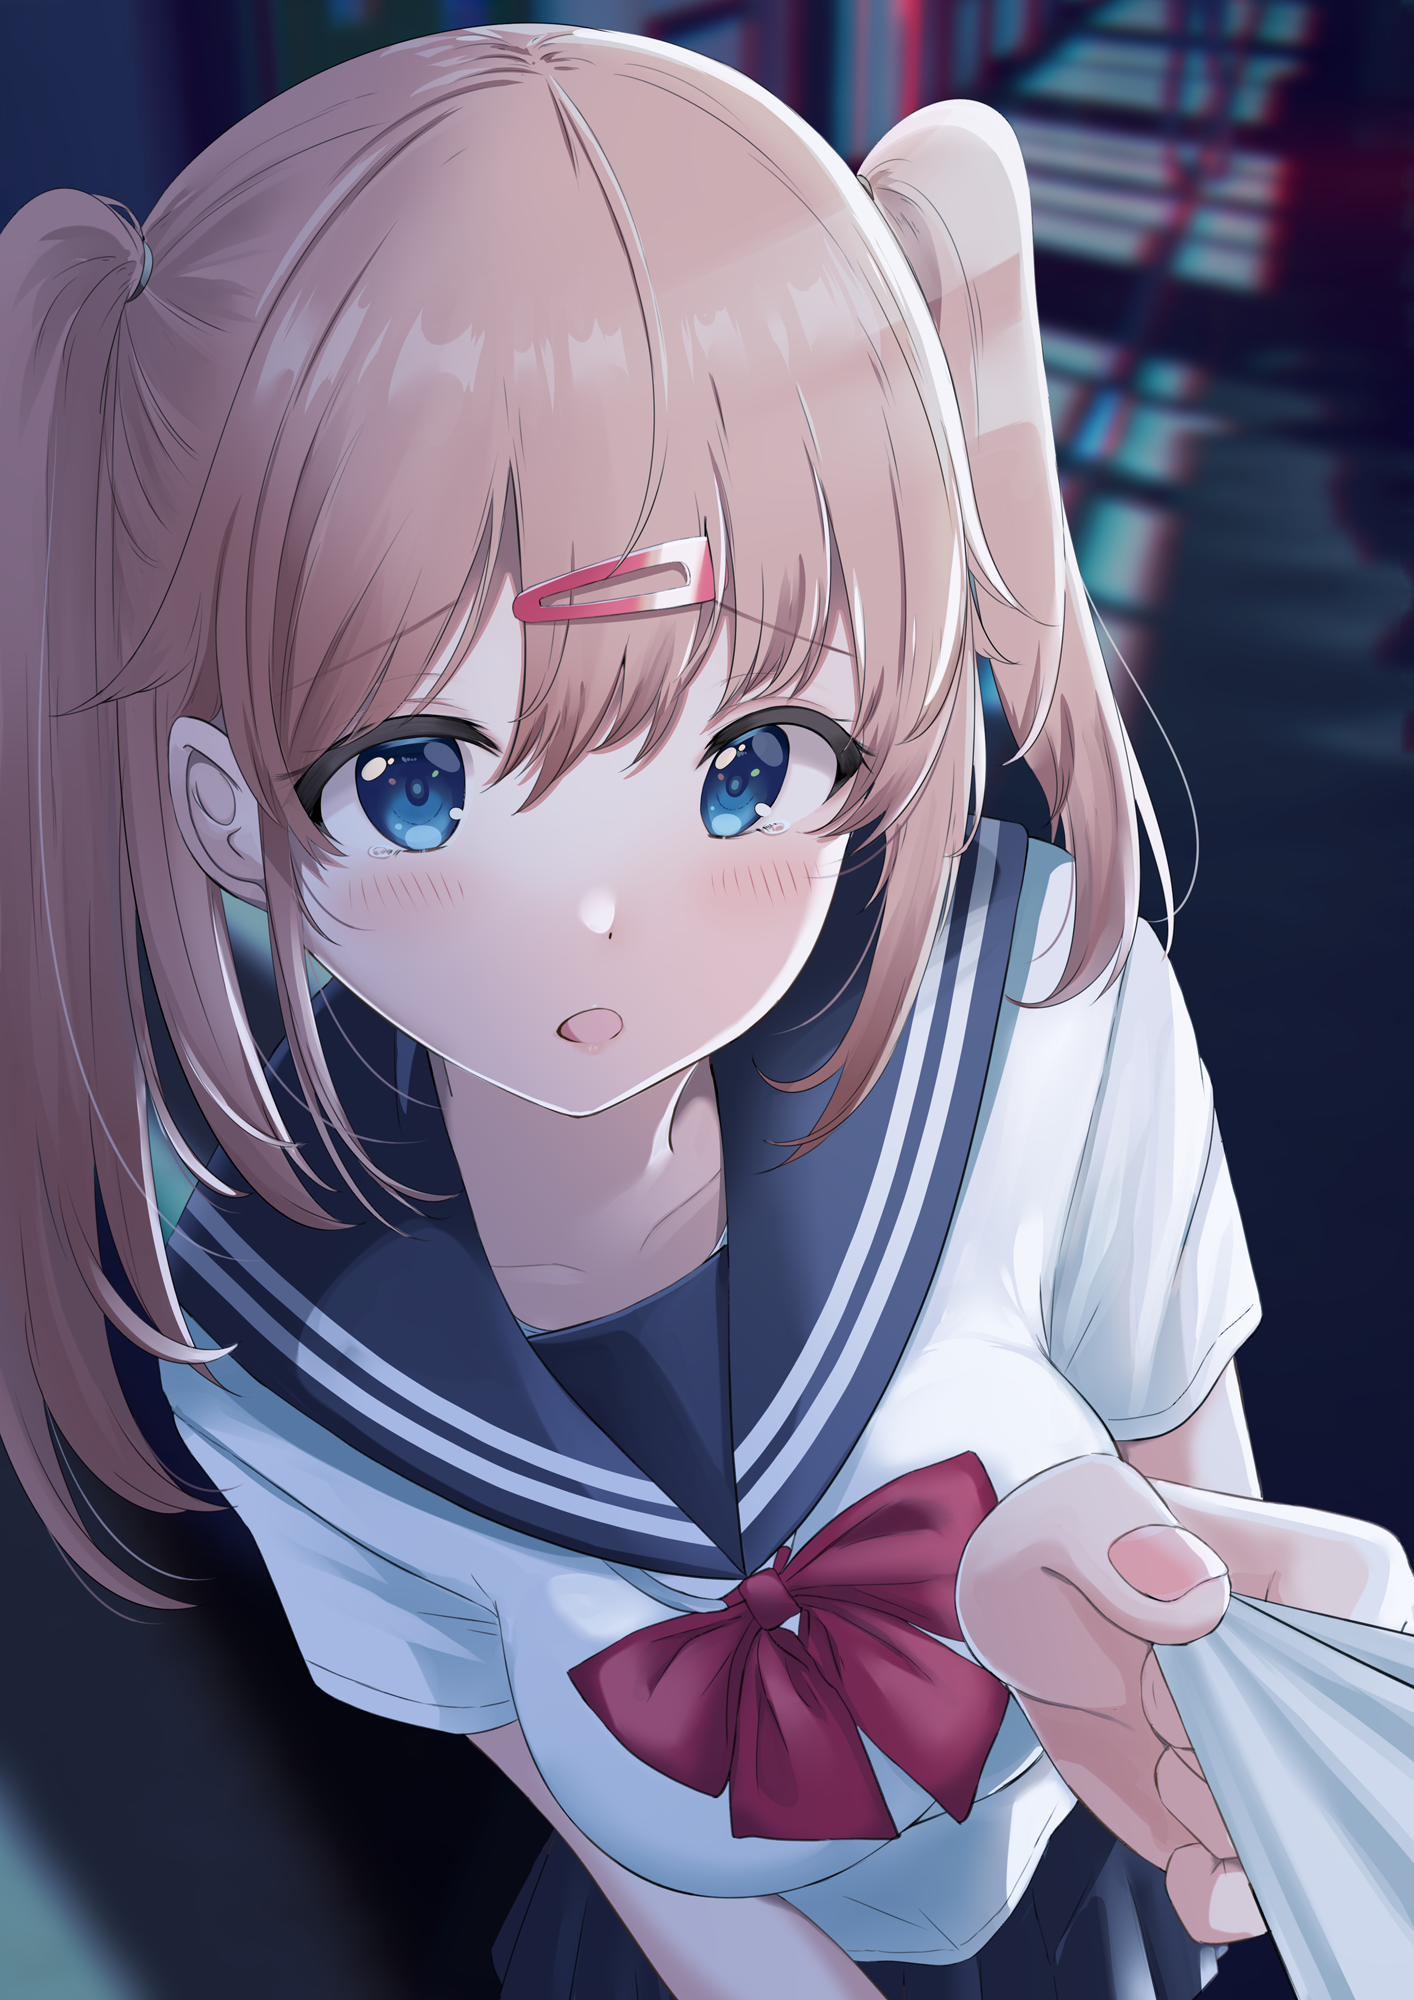纸片人正脸: (15, 12, 1080, 1148)
